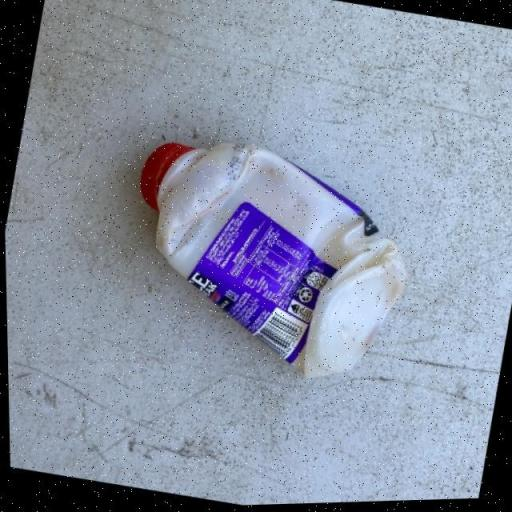plastic: (105, 120, 429, 401)
